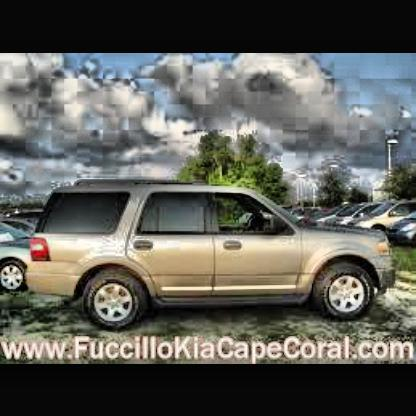Ford Expedition EL SUV 2009: (28, 179, 400, 334)
